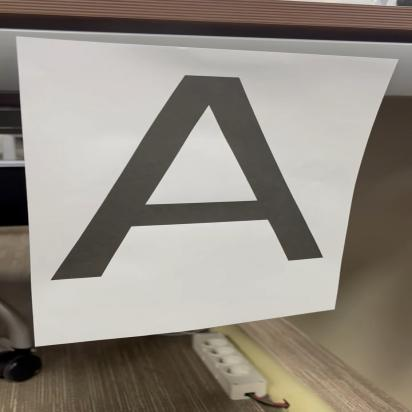seat: (55, 58, 331, 294)
